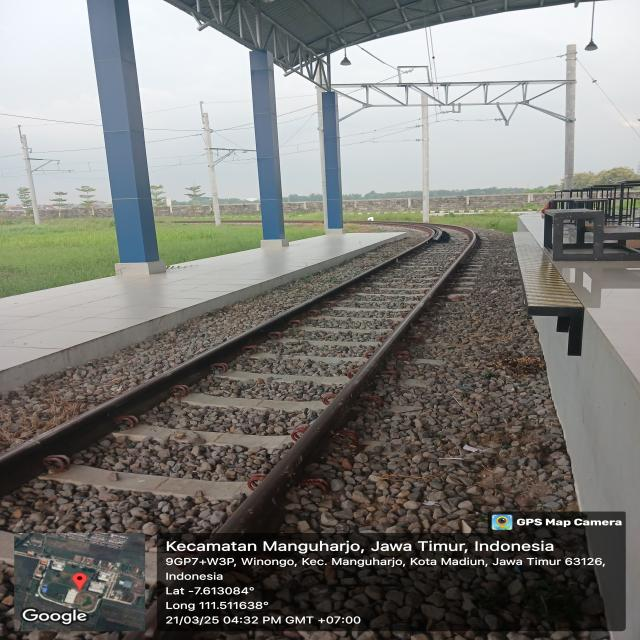rail-detection: (0, 271, 374, 497), (219, 226, 479, 535)
